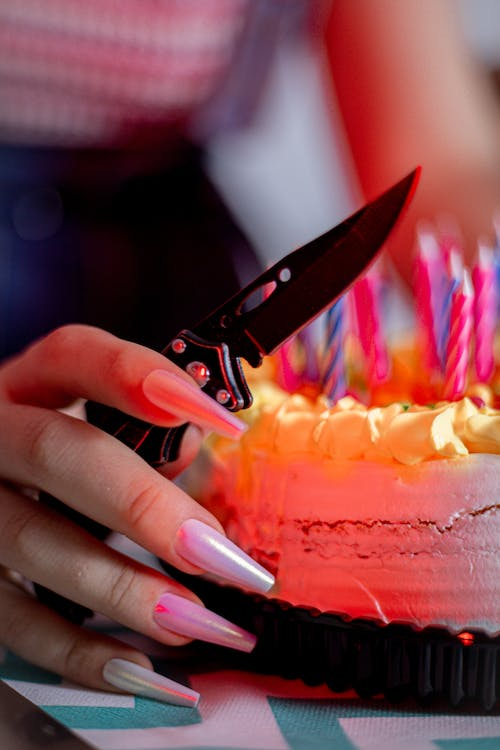knife: (157, 162, 423, 413)
